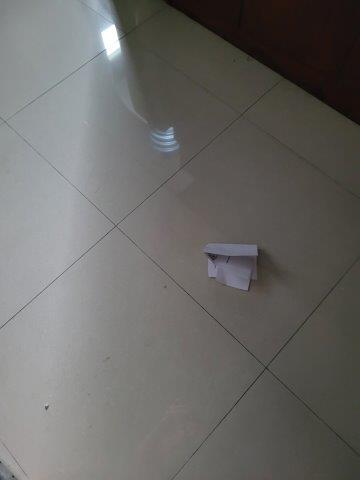kertas: (204, 243, 259, 290)
